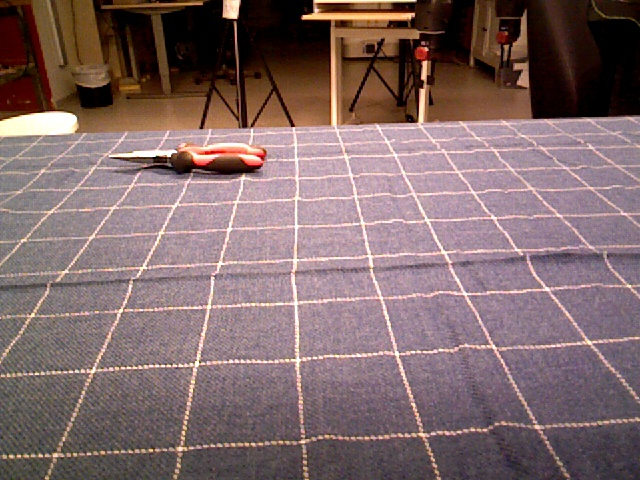plier1: (108, 143, 267, 172)
